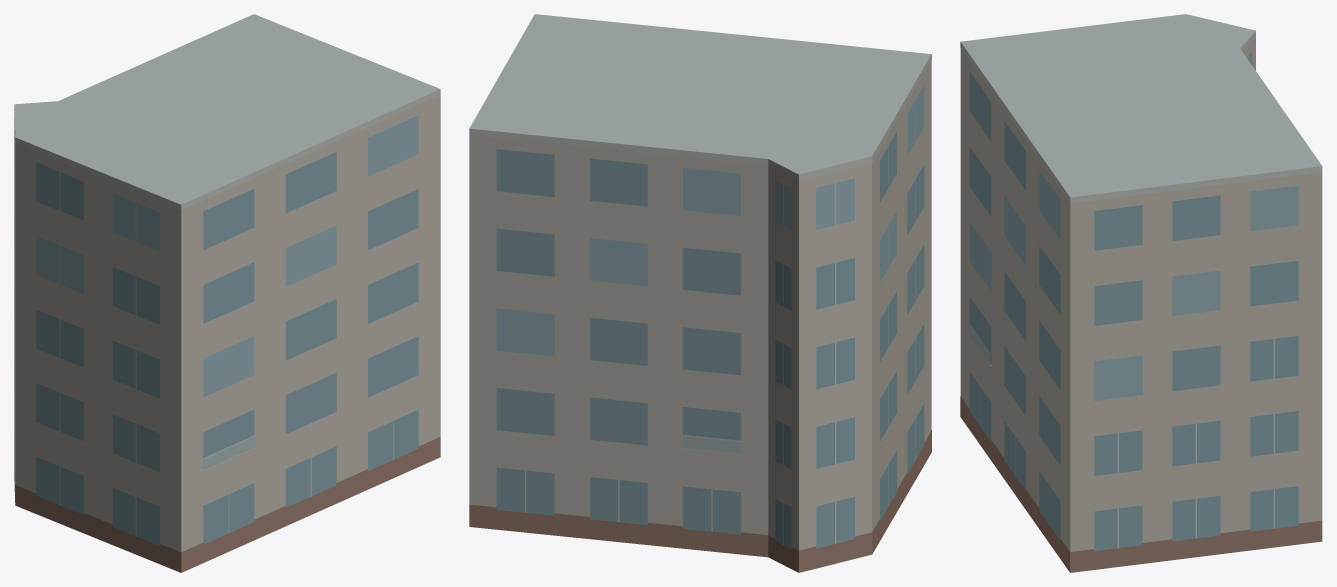
File: survey-upis-32863963.glb
The picture shows the model from 3 angles, left to right: view 1: azimuth 30°, elevation 25°; view 2: azimuth 150°, elevation 25°; view 3: azimuth 270°, elevation 25°; orthographic projection. The views are drawn at different scales.
Parts seen in each view (by area): view 1: survey-upis-32863963.tmp; view 2: survey-upis-32863963.tmp; view 3: survey-upis-32863963.tmp.
Part boxes in pixels (x1,y1,x2,y2): survey-upis-32863963.tmp: [14, 14, 440, 572]; survey-upis-32863963.tmp: [469, 14, 931, 572]; survey-upis-32863963.tmp: [960, 14, 1322, 572].
Bounding box in the file's own units: 16.04 × 15.3 × 13.37.
